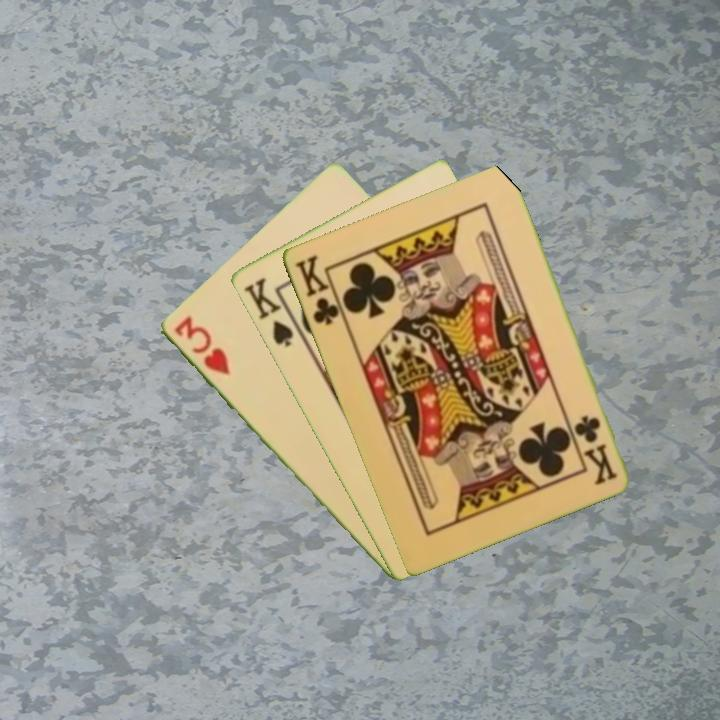3h: (170, 312, 232, 379)
Kc: (291, 251, 347, 328), (572, 411, 620, 487)
Ks: (240, 273, 304, 349)
